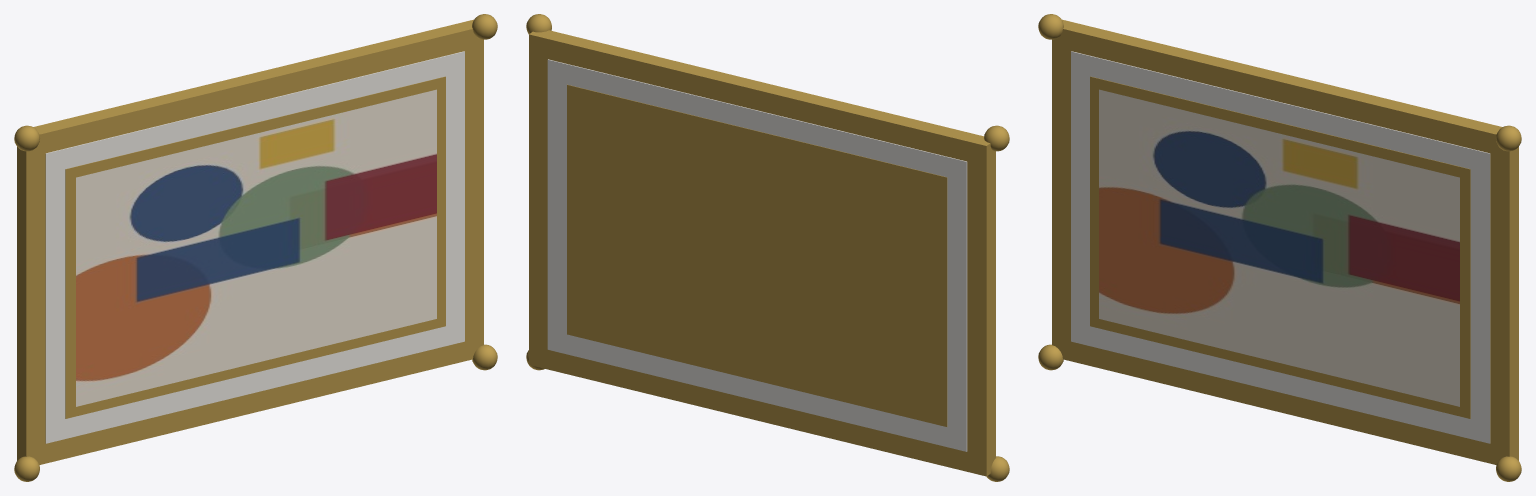
File: quadro-dourado.glb
3 views of the same model, side by side, from view 1: azimuth 30°, elevation 25°; view 2: azimuth 150°, elevation 25°; view 3: azimuth 330°, elevation 25° (orthographic).
Visible parts, largest first — view 1: quadro-dourado_malha; view 2: quadro-dourado_malha; view 3: quadro-dourado_malha.
Part boxes in pixels (bbox=[...]): quadro-dourado_malha: bbox=[14, 14, 497, 481]; quadro-dourado_malha: bbox=[526, 14, 1009, 481]; quadro-dourado_malha: bbox=[1038, 14, 1521, 481].
Bounding box in the file's own units: 1.49 × 1.05 × 0.0931.
3 materials, 1 textured.
